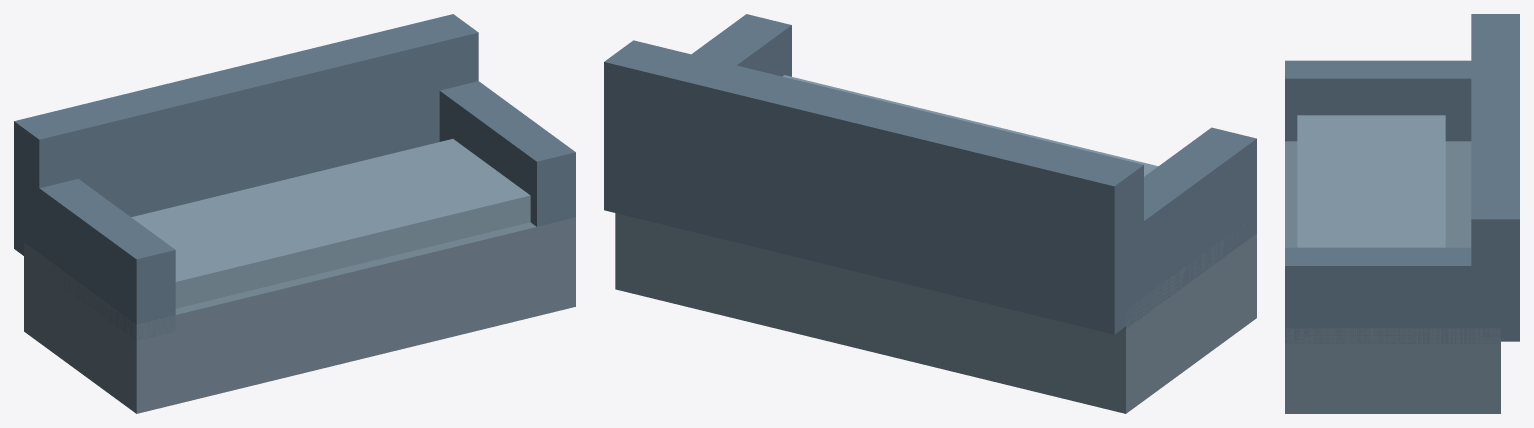
The model's file is sofa.glb.
3 views of the same model, side by side, from view 1: azimuth 30°, elevation 25°; view 2: azimuth 150°, elevation 25°; view 3: azimuth 270°, elevation 25° (orthographic). The views are drawn at different scales.
Visible parts, largest first — view 1: furniture; view 2: furniture; view 3: furniture.
Part boxes in pixels (box(x1,y1,x2,y2)): furniture: box(14, 14, 575, 413); furniture: box(604, 14, 1256, 413); furniture: box(1285, 14, 1519, 413).
Bounding box in the file's own units: 1.8 × 0.795 × 0.87.
